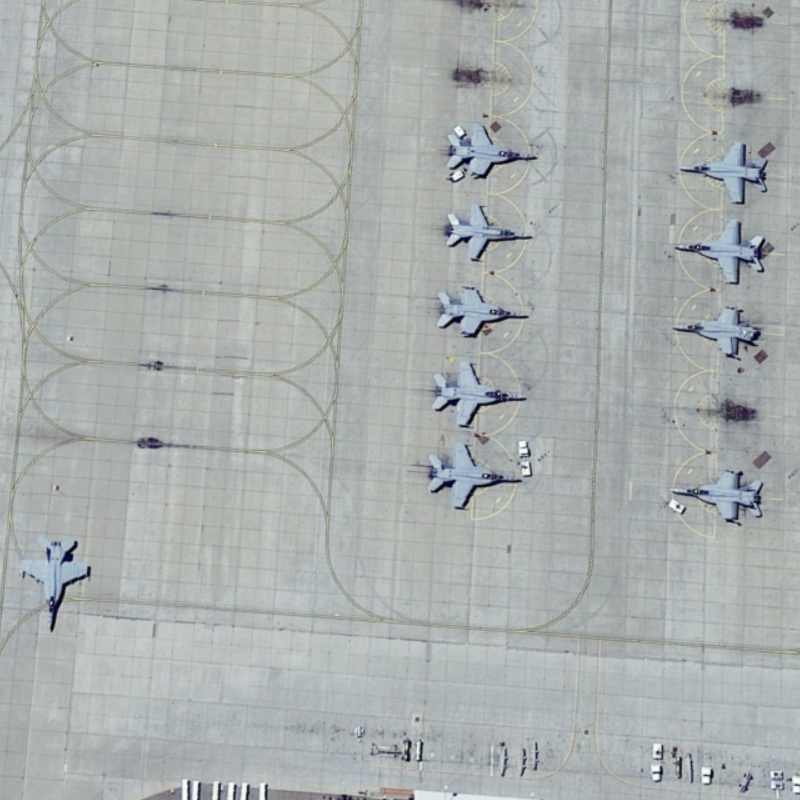A16: (14, 532, 100, 639), (421, 435, 529, 516), (428, 355, 531, 432), (669, 214, 773, 290), (665, 462, 770, 531), (673, 140, 774, 211), (432, 274, 533, 344), (442, 116, 542, 184), (440, 196, 532, 266), (666, 301, 763, 365)
